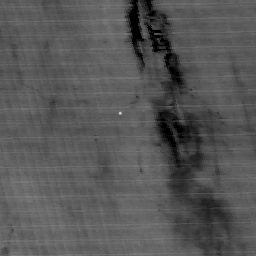Target: (116, 109, 124, 116)
